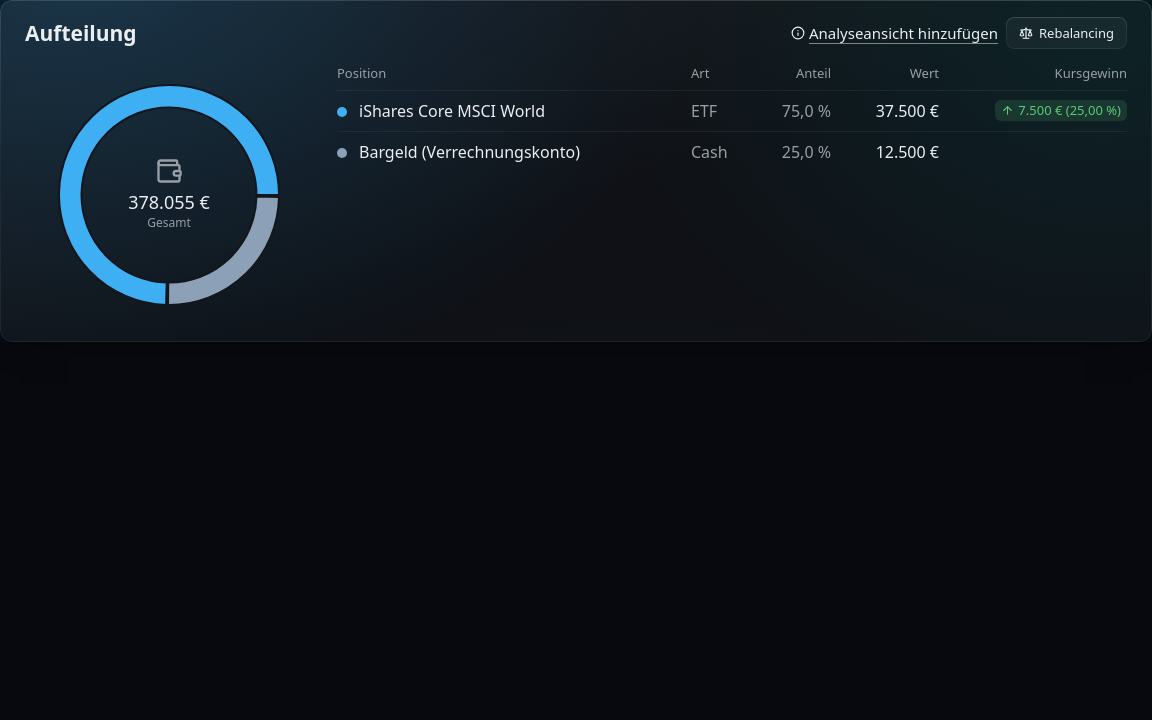
AufteilungKachel mit Reitern › ohne bekannte Fonds: keine Reiter, die Anleitung zu funds.json im Kopf der Aufteilung
Expected: the button "Rebalancing" is shown, [1006,17,1127,49]
Click the button "Analyseansicht hinzufügen" at (894, 33), box [791,22,998,44]
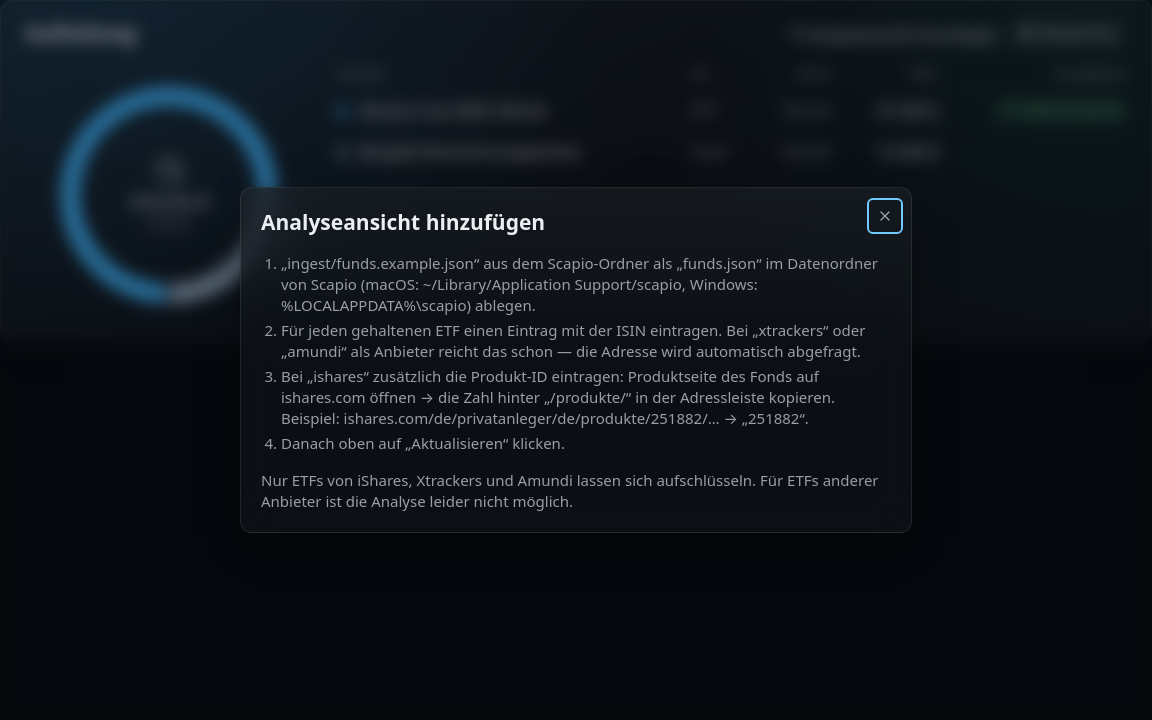
Expected: the list item "Für jeden gehaltenen ETF einen Eintrag mit der ISIN eintragen. Bei „xtrackers“ oder „amundi“ als Anbieter reicht das sch" is shown, [281,320,865,361]
Expected: the list item "Bei „ishares“ zusätzlich die Produkt-ID eintragen: Produktseite des Fonds auf ishares.com öffnen → die Zahl hinter „/pro" is shown, [281,366,835,428]
Expected: the list item "Danach oben auf „Aktualisieren“ klicken." is shown, [281,433,565,453]
